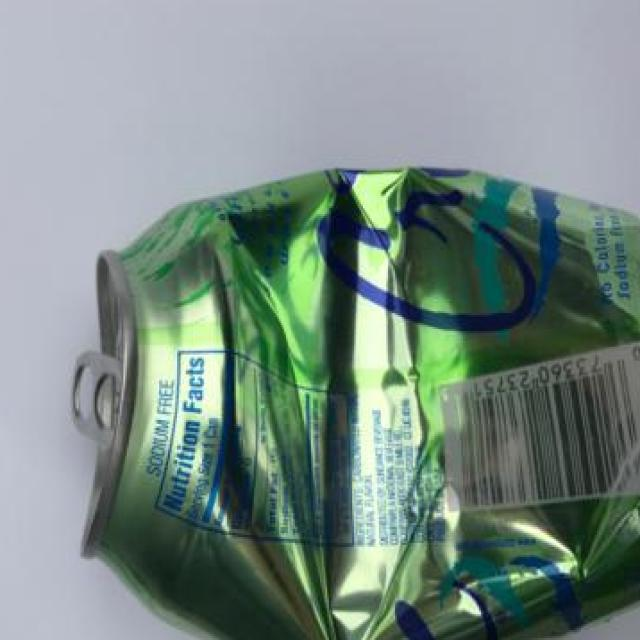organic: (65, 158, 634, 622)
